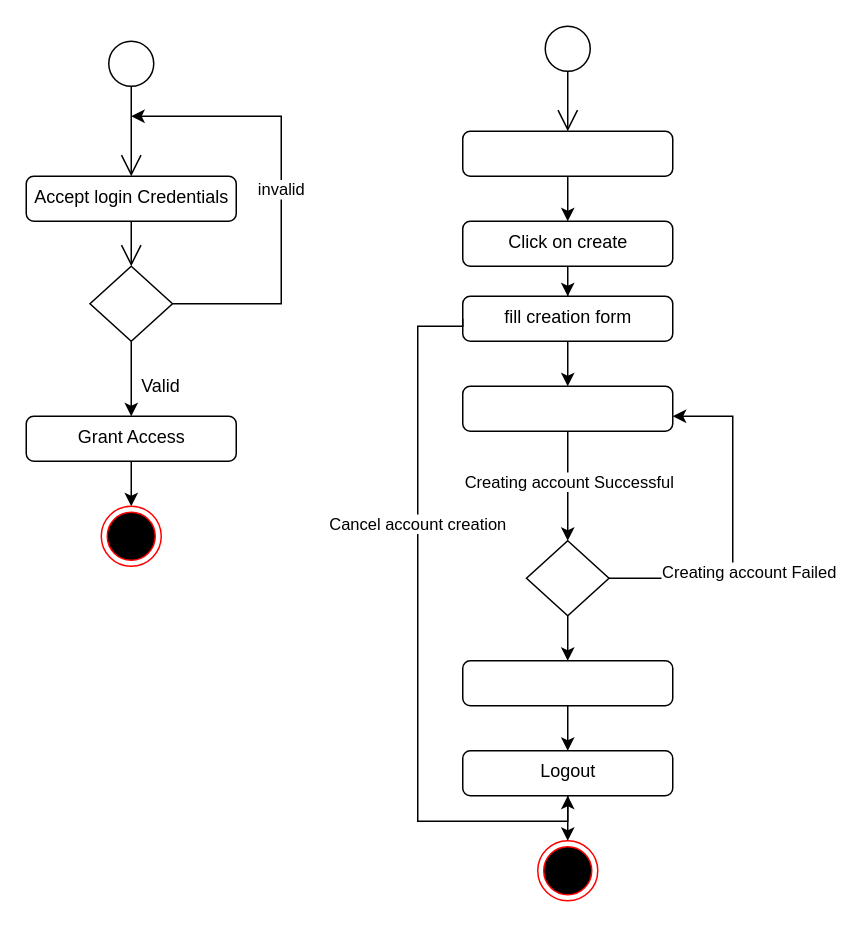
This 861x927 diagram has some shape labels left out. Here are the shapes that lost their labels. From the top down, the centre of each, then its label:
(x=567, y=153): Login
(x=567, y=408): Submit form
(x=567, y=682): Display All Citizens
